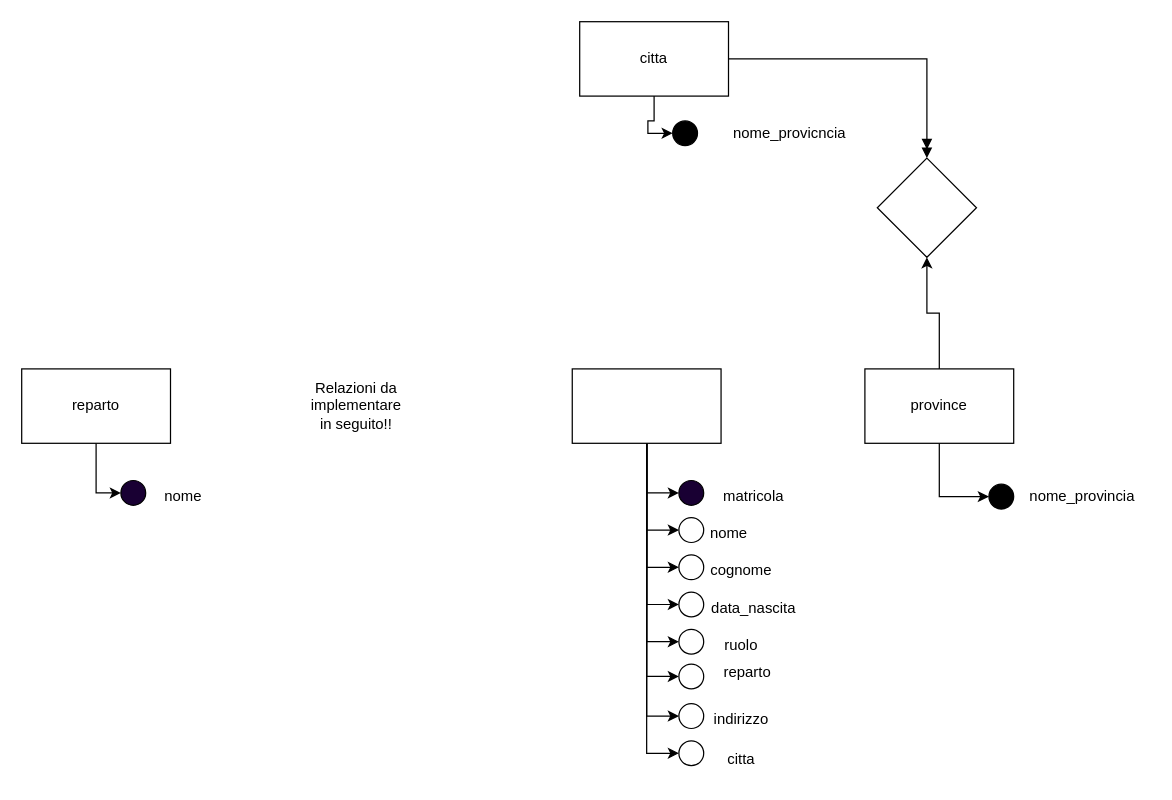
Some shapes in this 1172 by 800 pixel diagram are drawn without their labels. The shapes that lost their labels are listed below. From the top down, each one's box as (x1, y1, x2, y2) in pixels, then its label:
(876, 157, 976, 257): appartiene
(571, 368, 721, 443): impiegati
